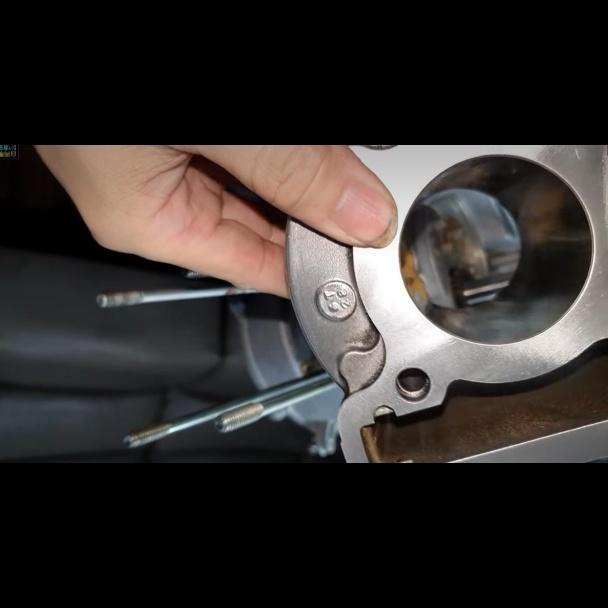hole: (394, 366, 432, 405)
